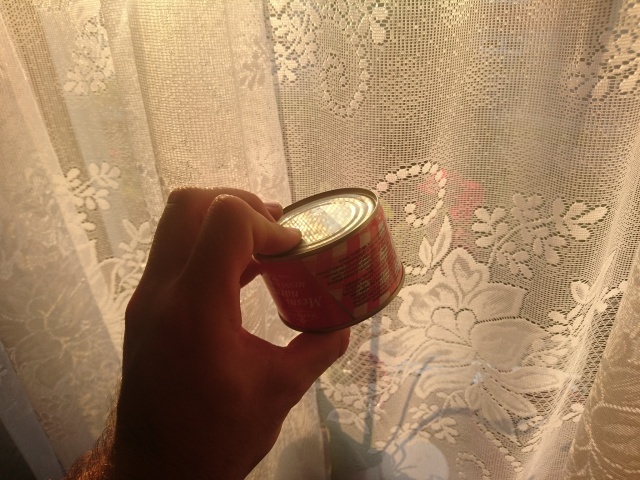Podravka Luncheon Meat 150g: (245, 184, 408, 337)
